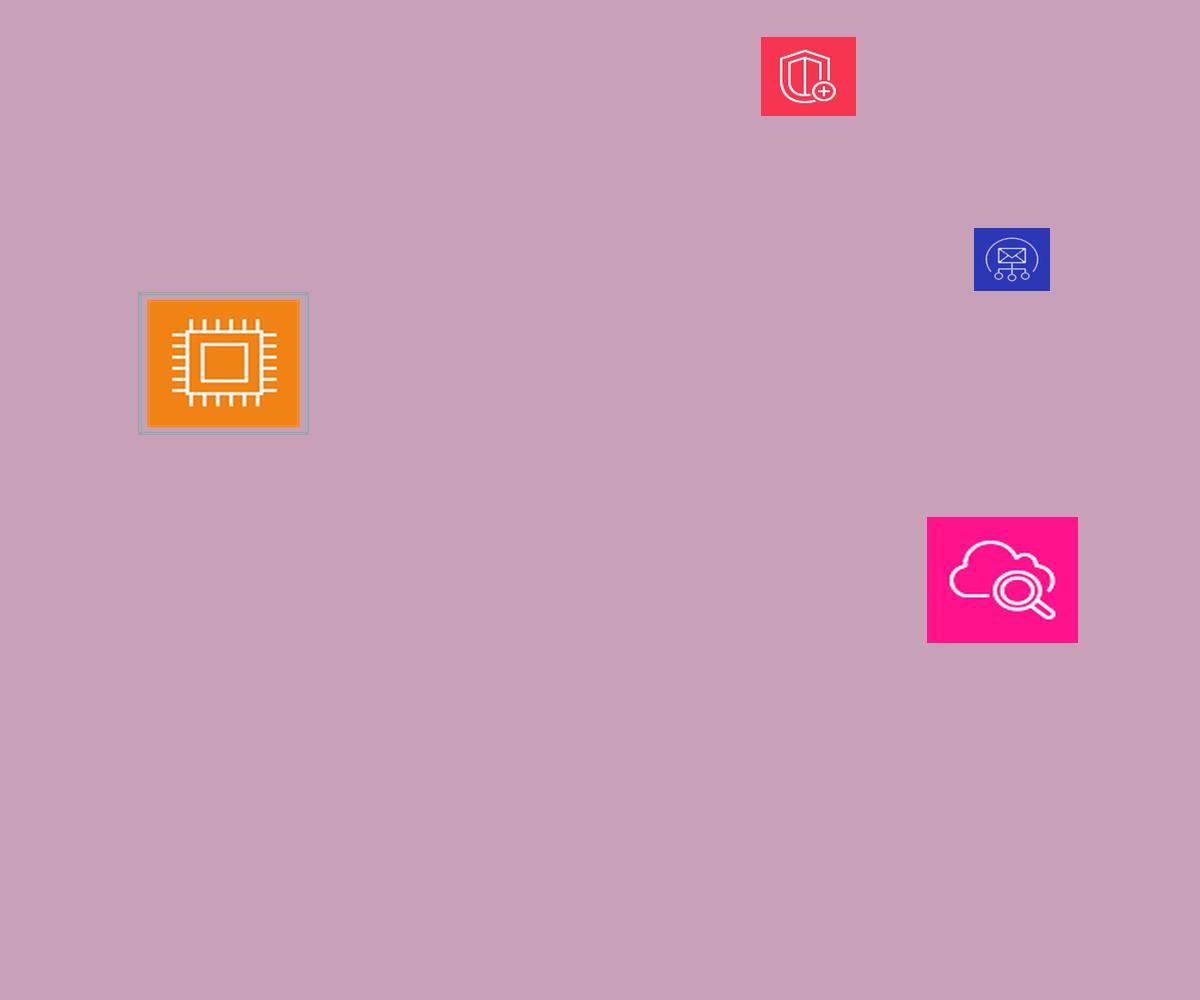AWS-Category_Compute: (138, 292, 309, 435)
AWS-CloudWatch: (927, 517, 1078, 643)
AWS-Shield: (761, 37, 856, 116)
AWS-Simple-Email-Service: (974, 228, 1050, 291)
